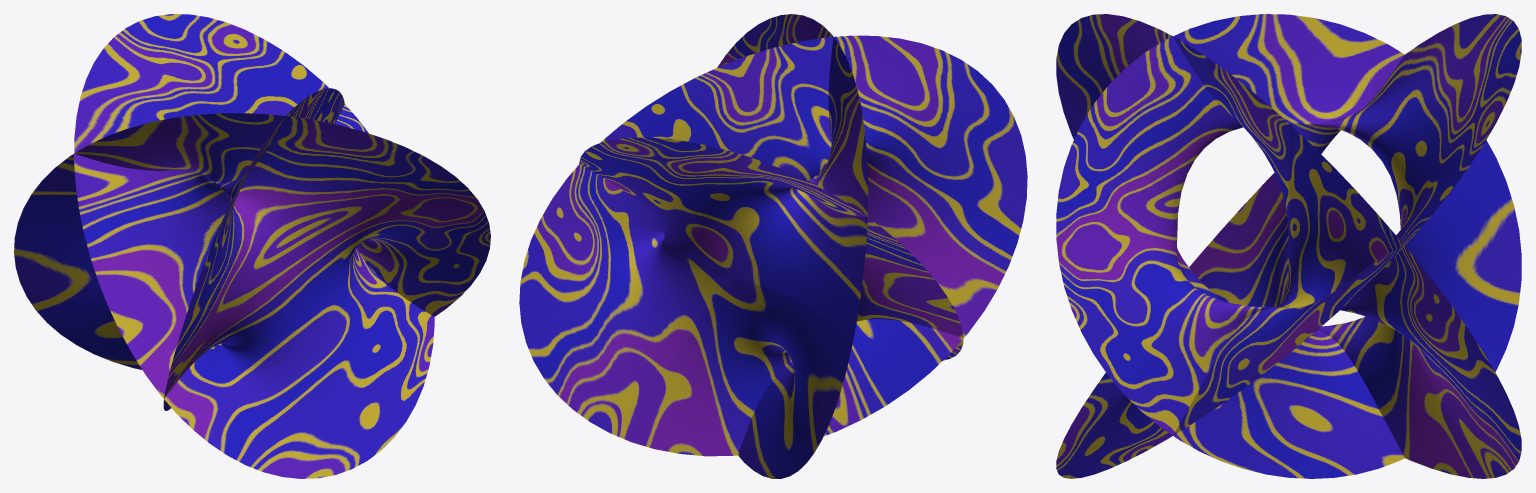
File: asset.glb
3 views of the same model, side by side, from view 1: azimuth 30°, elevation 25°; view 2: azimuth 150°, elevation 25°; view 3: azimuth 270°, elevation 25° (orthographic). The views are drawn at different scales.
Parts seen in each view (by area): view 1: Calabi-Yau; view 2: Calabi-Yau; view 3: Calabi-Yau.
Boxes of the visible parts, x1,y1,x2,y2 form: Calabi-Yau: (14,14,490,478); Calabi-Yau: (519,14,1027,478); Calabi-Yau: (1056,14,1521,478).
Bounding box in the file's own units: 3.59 × 3.59 × 3.59.
Materials: 1 (1 with a texture image).
